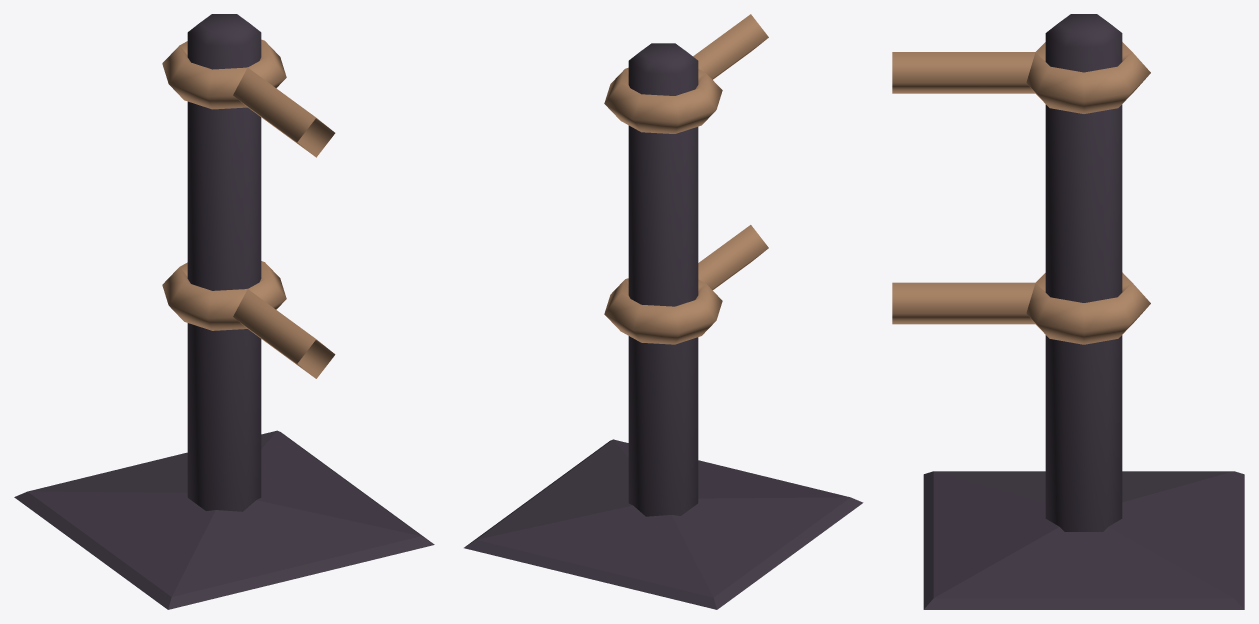
Rendered from CA_093_094_095_096_railing_end.glb.
3 views of the same model, side by side, from view 1: azimuth 30°, elevation 25°; view 2: azimuth 150°, elevation 25°; view 3: azimuth 270°, elevation 25° (orthographic). The views are drawn at different scales.
Visible parts, largest first — view 1: base.001, Pole.002, Knots.002, Ropes.004; view 2: base.001, Pole.002, Knots.002, Ropes.004; view 3: base.001, Pole.002, Ropes.004, Knots.002.
Part boxes in pixels (x1,y1,x2,y2): base.001: (14, 430, 434, 609); Pole.002: (187, 14, 261, 511); Knots.002: (162, 39, 286, 330); Ropes.004: (233, 67, 335, 378); base.001: (464, 439, 863, 609); Pole.002: (628, 43, 698, 516); Knots.002: (604, 67, 722, 344); Ropes.004: (693, 14, 768, 290); base.001: (923, 471, 1244, 609); Pole.002: (1045, 14, 1122, 531); Ropes.004: (892, 52, 1036, 324); Knots.002: (1026, 42, 1150, 344).
Size of the model in its own units: 0.6285 by 1.12 by 0.6892.
